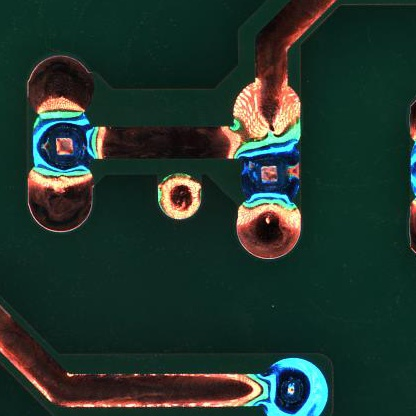spot: (268, 357, 331, 416), (33, 112, 91, 175), (240, 149, 300, 205)
